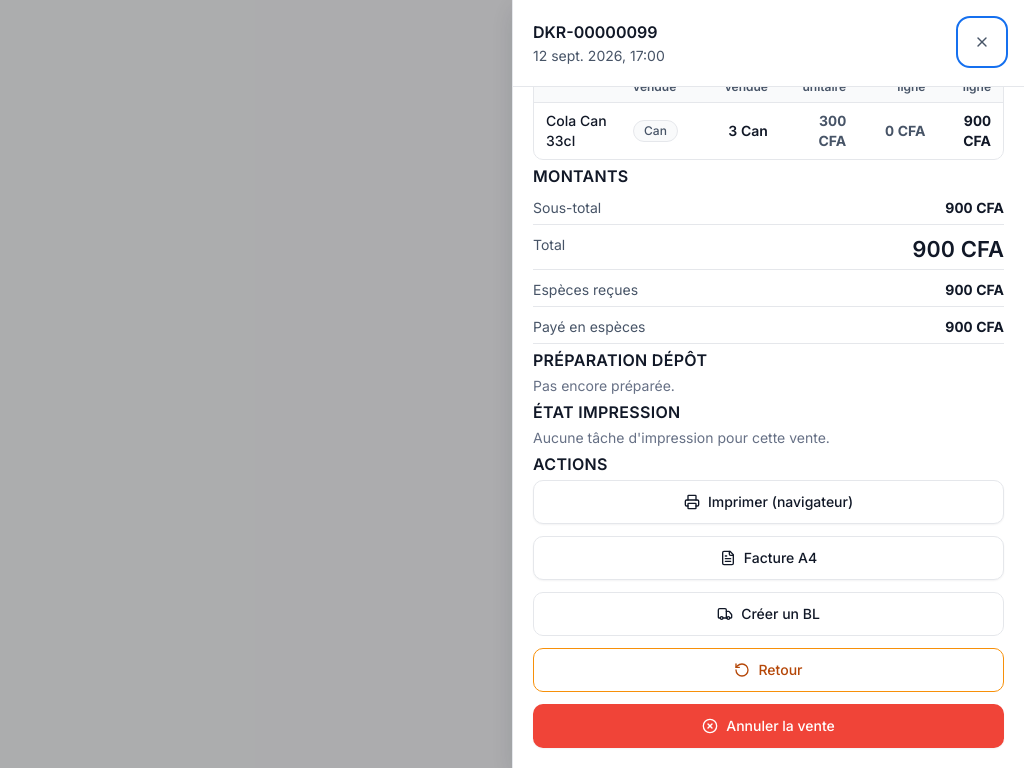
Test case: SaleDetailDrawer › opens VoidModal from the Void button
(page scrolled)
What coordinates should you click on to do the following:
click the button "Annuler la vente"
I would click on:
 (768, 726)
Its box is [533,704,1004,748].
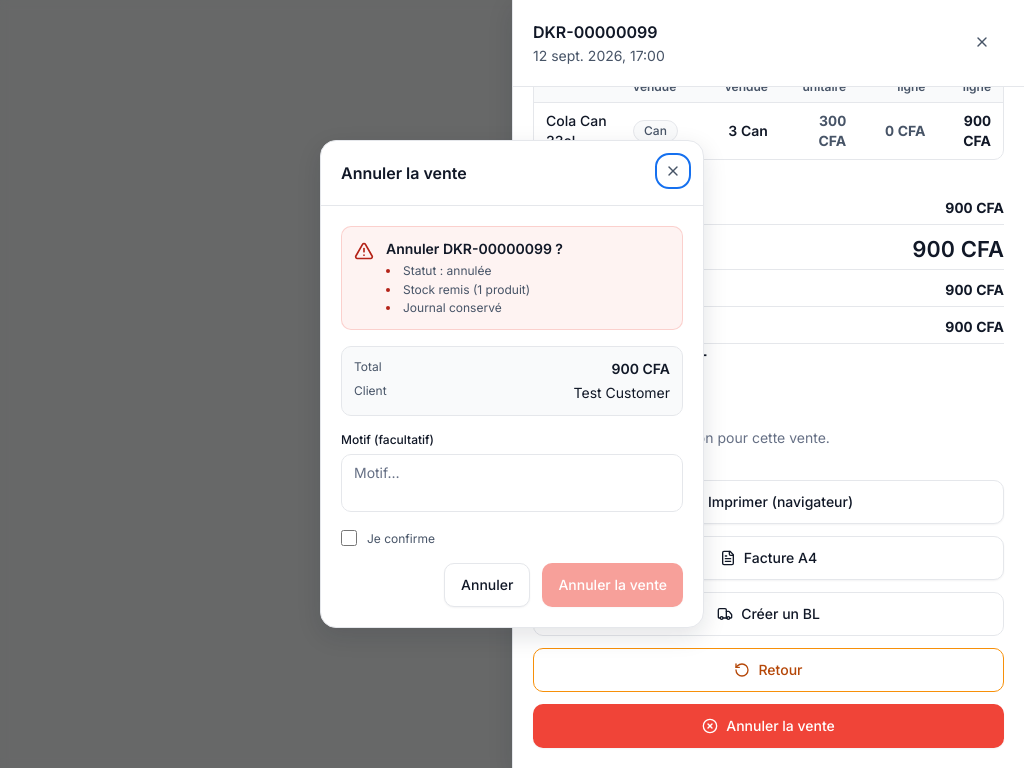
Expected: the heading "Annuler la vente" is shown, [341,161,467,185]
